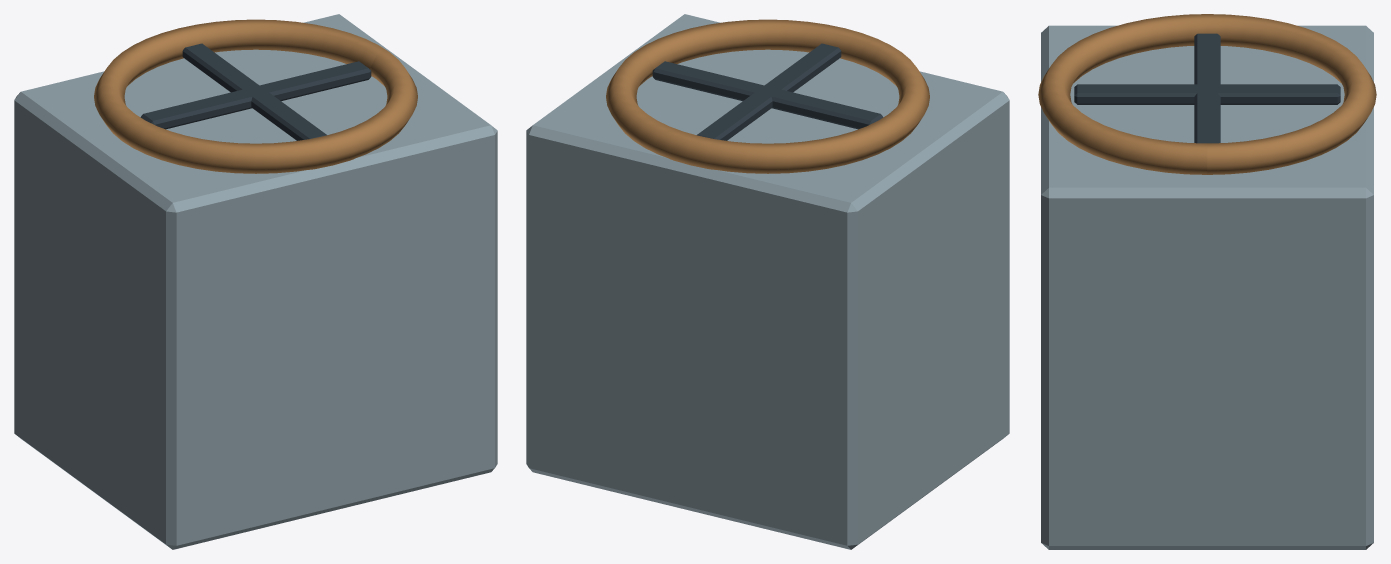
Rendered from cooler.lod0.glb.
3 views of the same model, side by side, from view 1: azimuth 30°, elevation 25°; view 2: azimuth 150°, elevation 25°; view 3: azimuth 270°, elevation 25° (orthographic). The views are drawn at different scales.
Parts seen in each view (by area): view 1: structure, fan; view 2: structure, fan; view 3: structure, fan.
Part boxes in pixels (<box>): structure: <box>14,14,497,549</box>; fan: <box>140,43,371,140</box>; structure: <box>526,14,1009,549</box>; fan: <box>652,43,883,140</box>; structure: <box>1038,14,1376,549</box>; fan: <box>1074,33,1340,143</box>.
Size of the model in its own units: 3 by 3.2 by 2.54.
